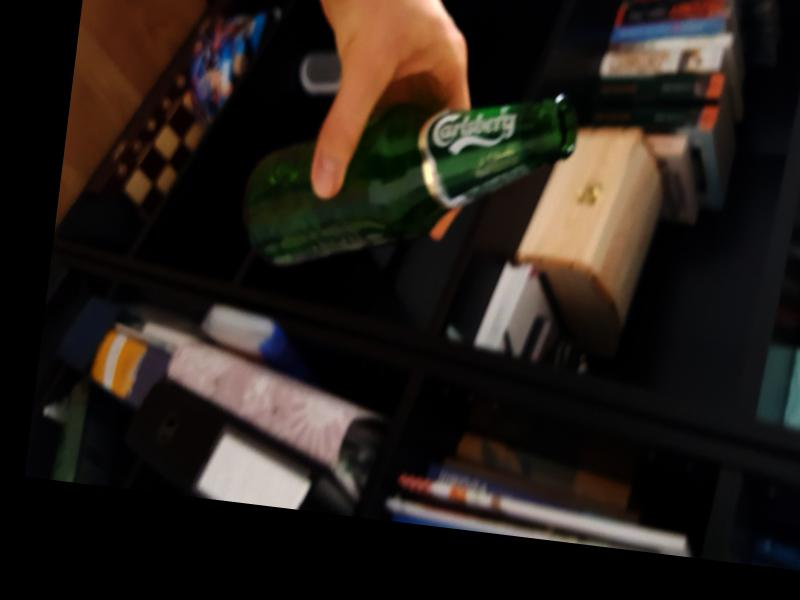Beer: (235, 61, 580, 305)
